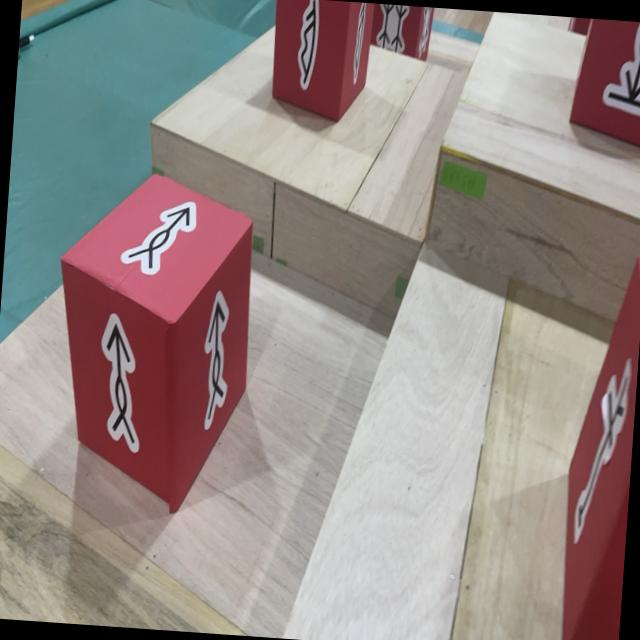11: (294, 0, 320, 90)
12: (92, 311, 148, 454), (120, 195, 198, 278), (198, 290, 234, 432)
6: (374, 4, 410, 54), (417, 6, 432, 58)
7: (599, 19, 640, 120)
9: (572, 356, 632, 546)
fighter: (42, 167, 260, 518), (556, 248, 640, 640), (268, 0, 374, 125), (567, 17, 640, 151), (368, 3, 436, 60), (566, 16, 592, 36)
